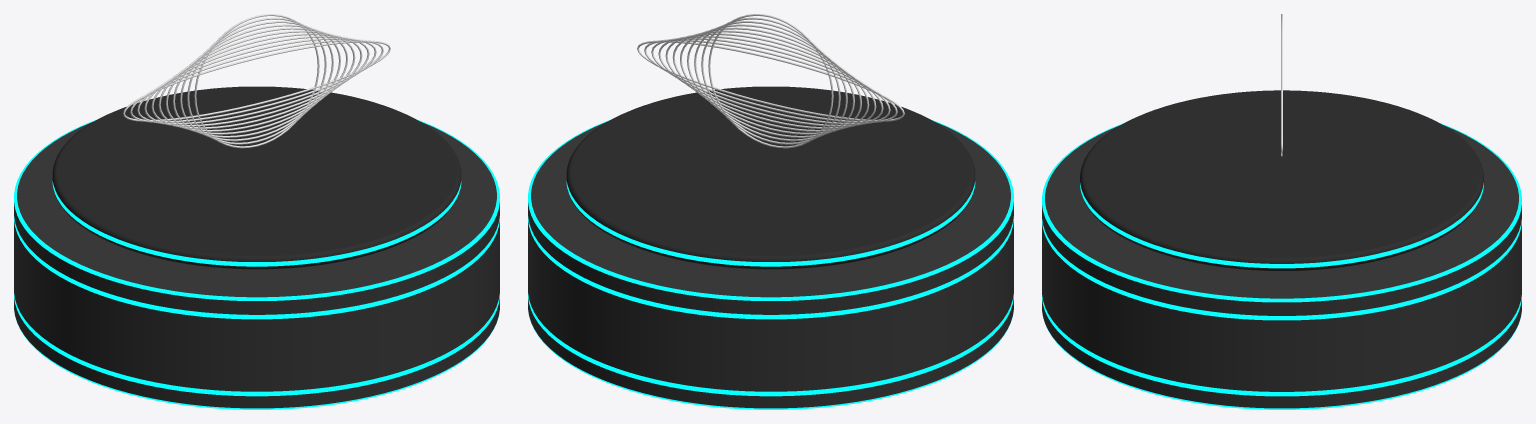
File: 4everland_rotation.fbx
3 views of the same model, side by side, from view 1: azimuth 30°, elevation 25°; view 2: azimuth 150°, elevation 25°; view 3: azimuth 270°, elevation 25° (orthographic).
Parts seen in each view (by area): view 1: Cylinder, Cylinder.001, trial.031; view 2: Cylinder, Cylinder.001, trial.031; view 3: Cylinder, Cylinder.001.
Boxes of the visible parts, box(x1,y1,x2,y2) form: Cylinder: box(14, 119, 499, 409); Cylinder.001: box(52, 86, 461, 269); trial.031: box(123, 14, 390, 148); Cylinder: box(528, 119, 1013, 409); Cylinder.001: box(566, 86, 975, 269); trial.031: box(637, 14, 904, 148); Cylinder: box(1042, 123, 1521, 409); Cylinder.001: box(1080, 90, 1483, 270).
Size of the model in its own units: 161 by 107 by 161.
